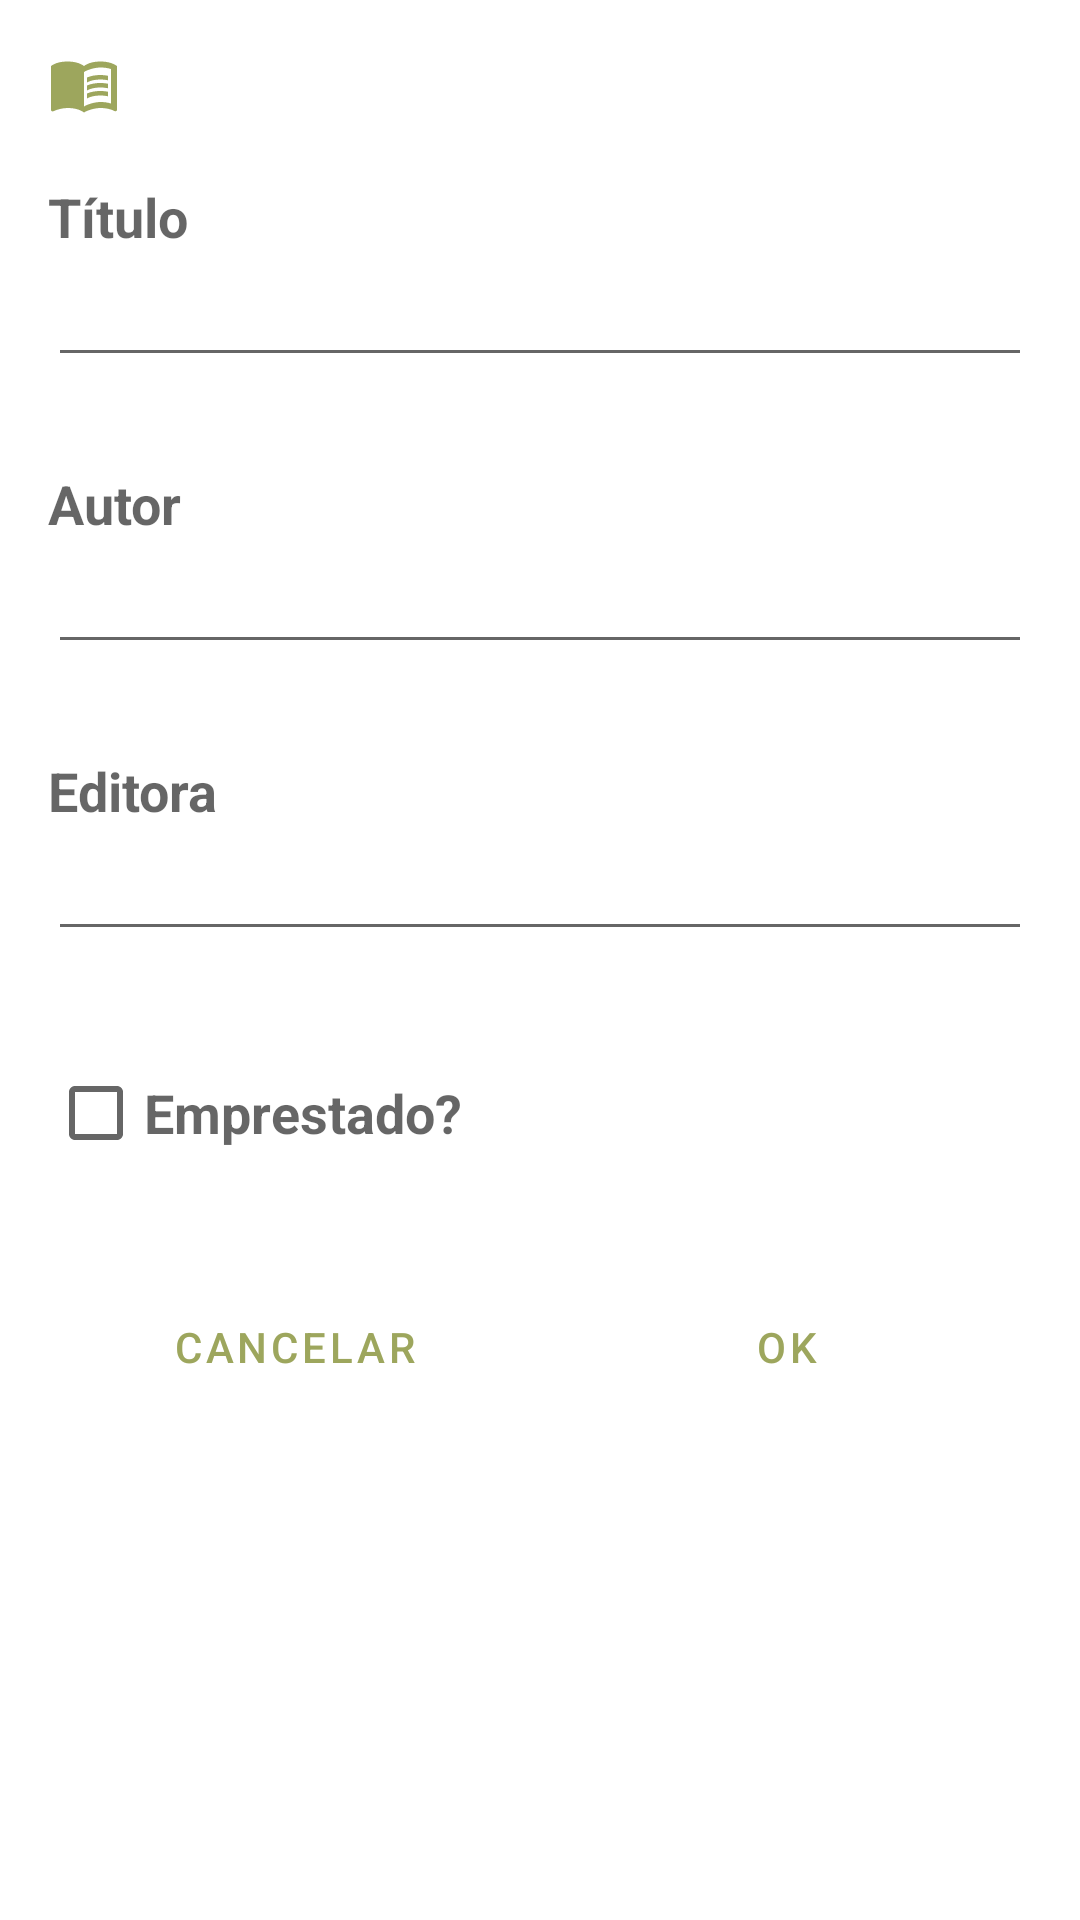

Point at icon controls on the screen. Image size 1080x1920, points as (x,y).
book: (84,87)
